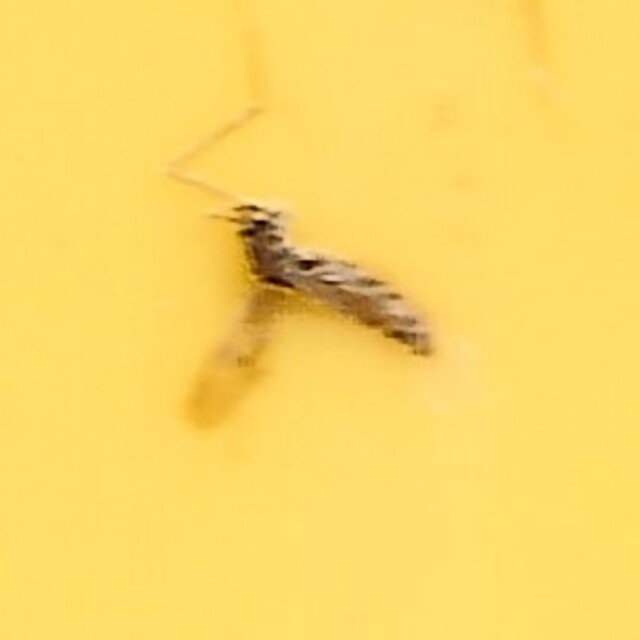Nematocera: (196, 210, 444, 430)
